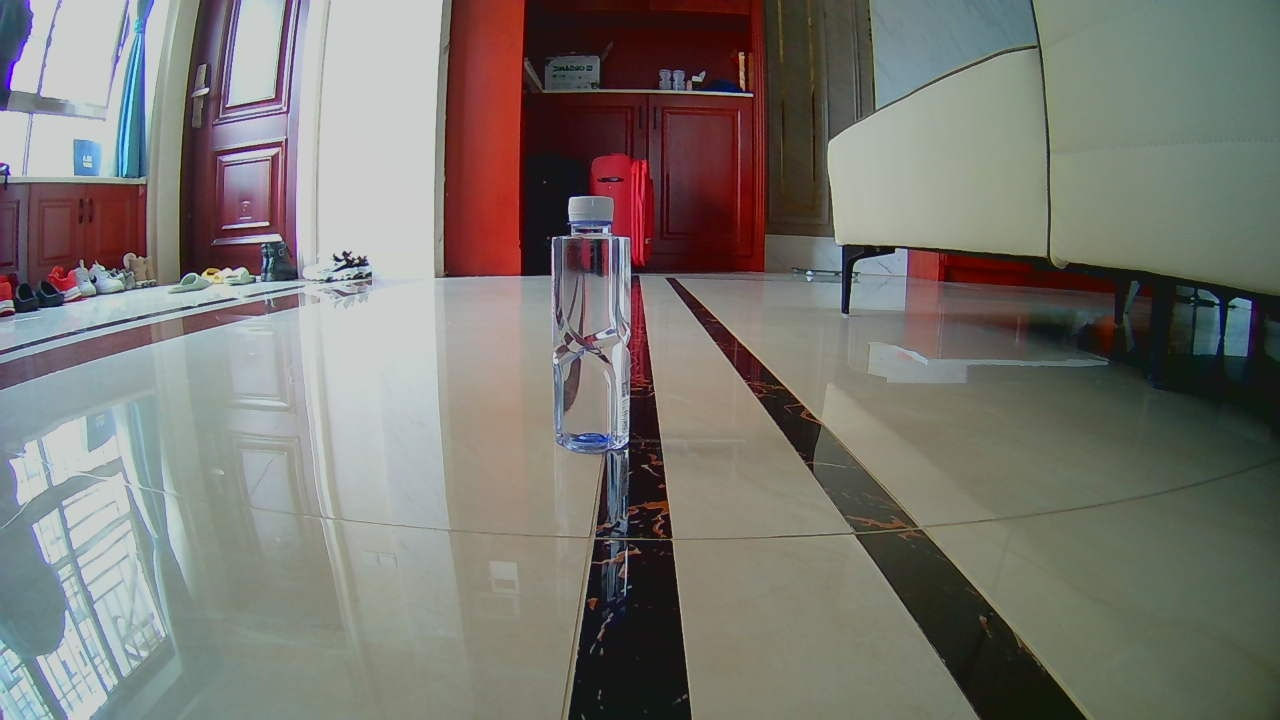water: (555, 196, 631, 454)
